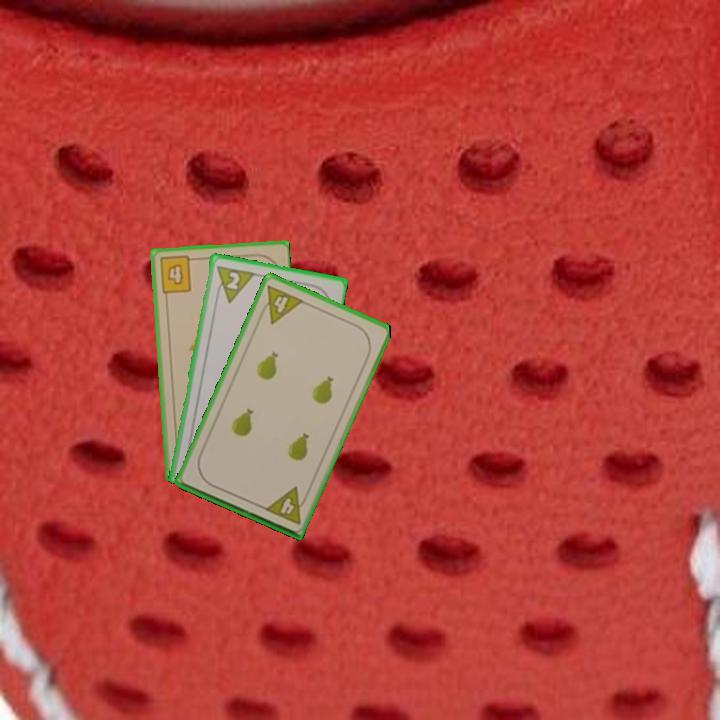2p: (212, 261, 257, 306)
4b: (156, 252, 199, 296)
4p: (255, 281, 306, 327), (261, 483, 311, 527)
